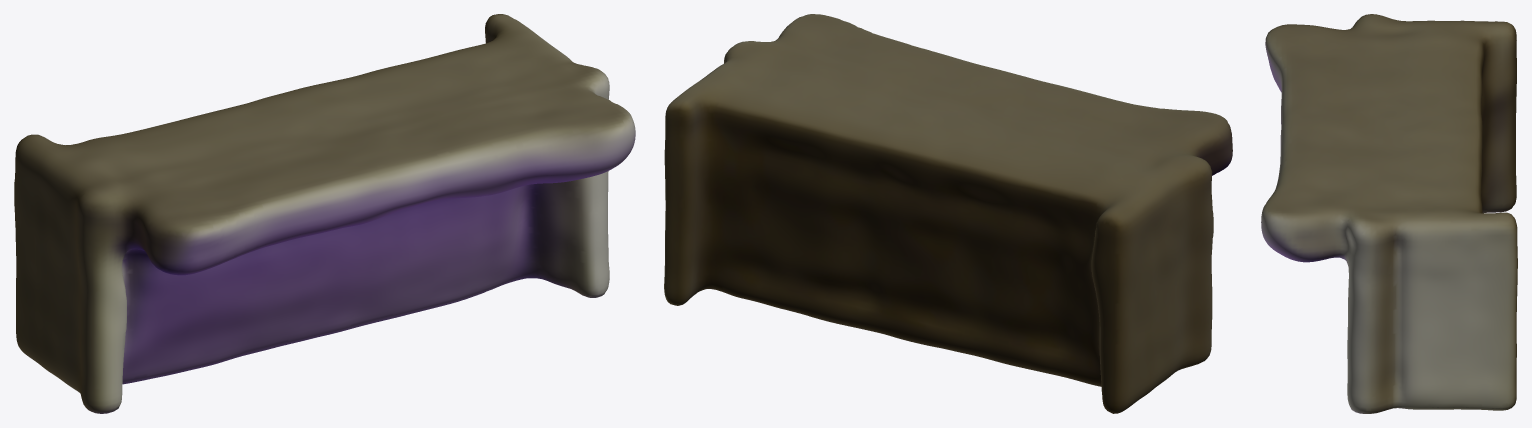
File: sofa.glb
The picture shows the model from 3 angles, left to right: view 1: azimuth 30°, elevation 25°; view 2: azimuth 150°, elevation 25°; view 3: azimuth 270°, elevation 25°; orthographic projection. The views are drawn at different scales.
Size of the model in its own units: 0.9992 by 0.4215 by 0.49.
